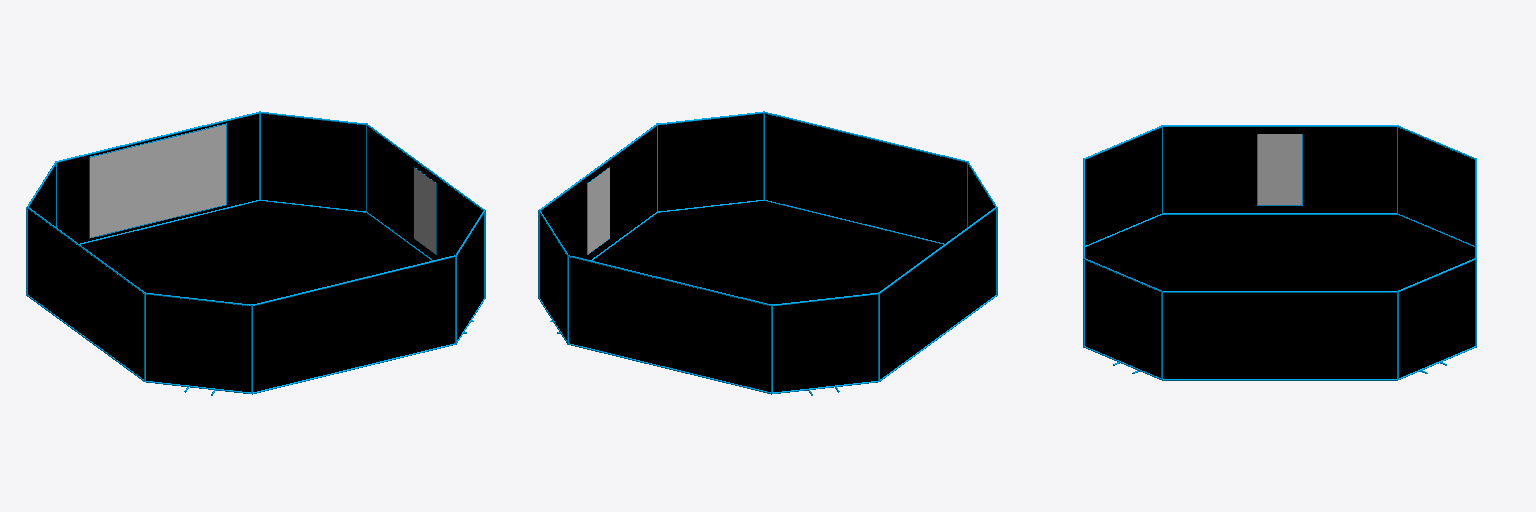
The model's file is Platform.obj.
3 renders of one model, left to right at view 1: azimuth 30°, elevation 25°; view 2: azimuth 150°, elevation 25°; view 3: azimuth 270°, elevation 25°, orthographic.
Visible parts, largest first — view 1: Plane.007, Plane.005, Plane.015, Plane.009, Plane.003, Plane.008, Plane.004, Plane.006, Plane.010, Plane.022, Plane.023, Plane.011 (+1 smaller); view 2: Plane.007, Plane.005, Plane.006, Plane.010, Plane.011, Plane.003, Plane.004, Plane.015, Plane.009, Plane.022, Plane.023, Plane.008; view 3: Plane.007, Plane.004, Plane.003, Plane.008, Plane.011, Plane.009, Plane.010, Plane.023.
Part boxes in pixels (bbox=[...]): Plane.007: bbox=[81, 201, 430, 303]; Plane.005: bbox=[253, 257, 454, 391]; Plane.015: bbox=[89, 123, 226, 238]; Plane.009: bbox=[261, 114, 365, 210]; Plane.003: bbox=[28, 209, 143, 378]; Plane.008: bbox=[146, 295, 250, 391]; Plane.004: bbox=[367, 126, 482, 259]; Plane.006: bbox=[57, 114, 258, 243]; Plane.010: bbox=[457, 214, 483, 339]; Plane.022: bbox=[414, 167, 436, 254]; Plane.023: bbox=[75, 250, 97, 337]; Plane.011: bbox=[29, 165, 55, 226]; Plane.007: bbox=[593, 201, 942, 303]; Plane.005: bbox=[765, 114, 966, 243]; Plane.006: bbox=[569, 257, 770, 391]; Plane.010: bbox=[658, 114, 762, 210]; Plane.011: bbox=[773, 295, 877, 391]; Plane.003: bbox=[880, 209, 995, 378]; Plane.004: bbox=[541, 126, 656, 259]; Plane.015: bbox=[601, 268, 738, 381]; Plane.009: bbox=[540, 214, 566, 339]; Plane.022: bbox=[587, 167, 609, 254]; Plane.023: bbox=[926, 250, 948, 337]; Plane.008: bbox=[968, 165, 994, 226]; Plane.007: bbox=[1085, 215, 1474, 290]; Plane.004: bbox=[1163, 293, 1396, 378]; Plane.003: bbox=[1163, 127, 1396, 212]; Plane.008: bbox=[1085, 128, 1161, 245]; Plane.011: bbox=[1398, 128, 1474, 245]; Plane.009: bbox=[1399, 260, 1474, 377]; Plane.010: bbox=[1085, 260, 1160, 377]; Plane.023: bbox=[1257, 134, 1302, 205].
Bounding box in the file's own units: 20.1 × 5.38 × 20.1.